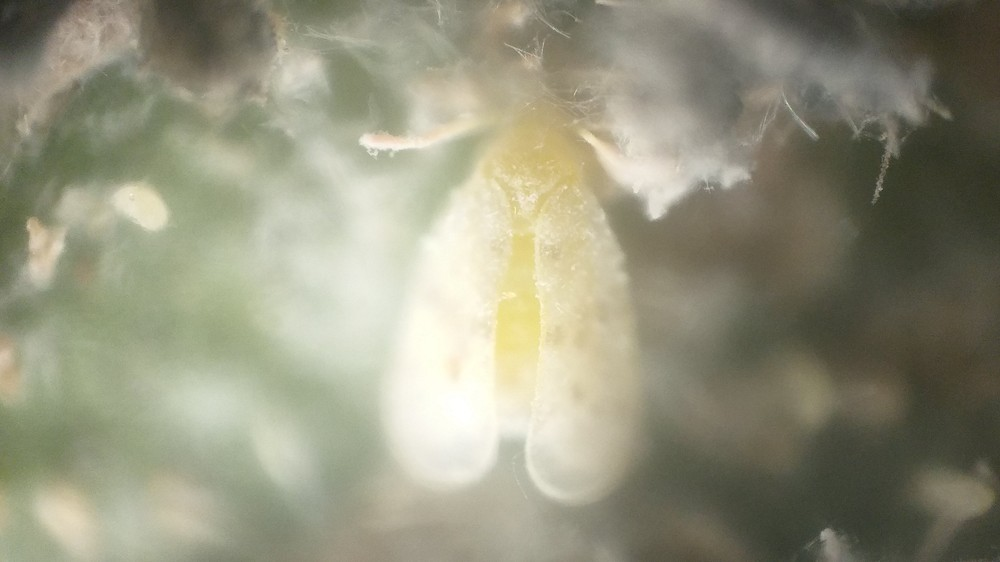Mosca Blanca: (335, 69, 728, 523)
